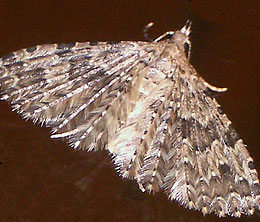Alucitidae: (1, 15, 260, 218)
moth: (1, 17, 260, 220)
